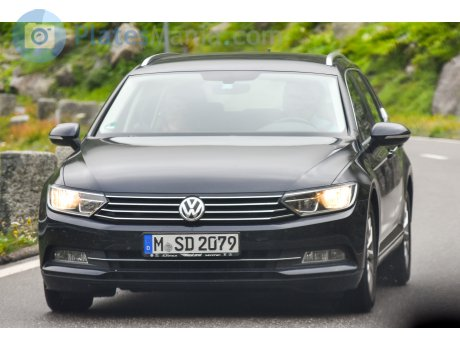License Plates: (153, 233, 238, 249)
